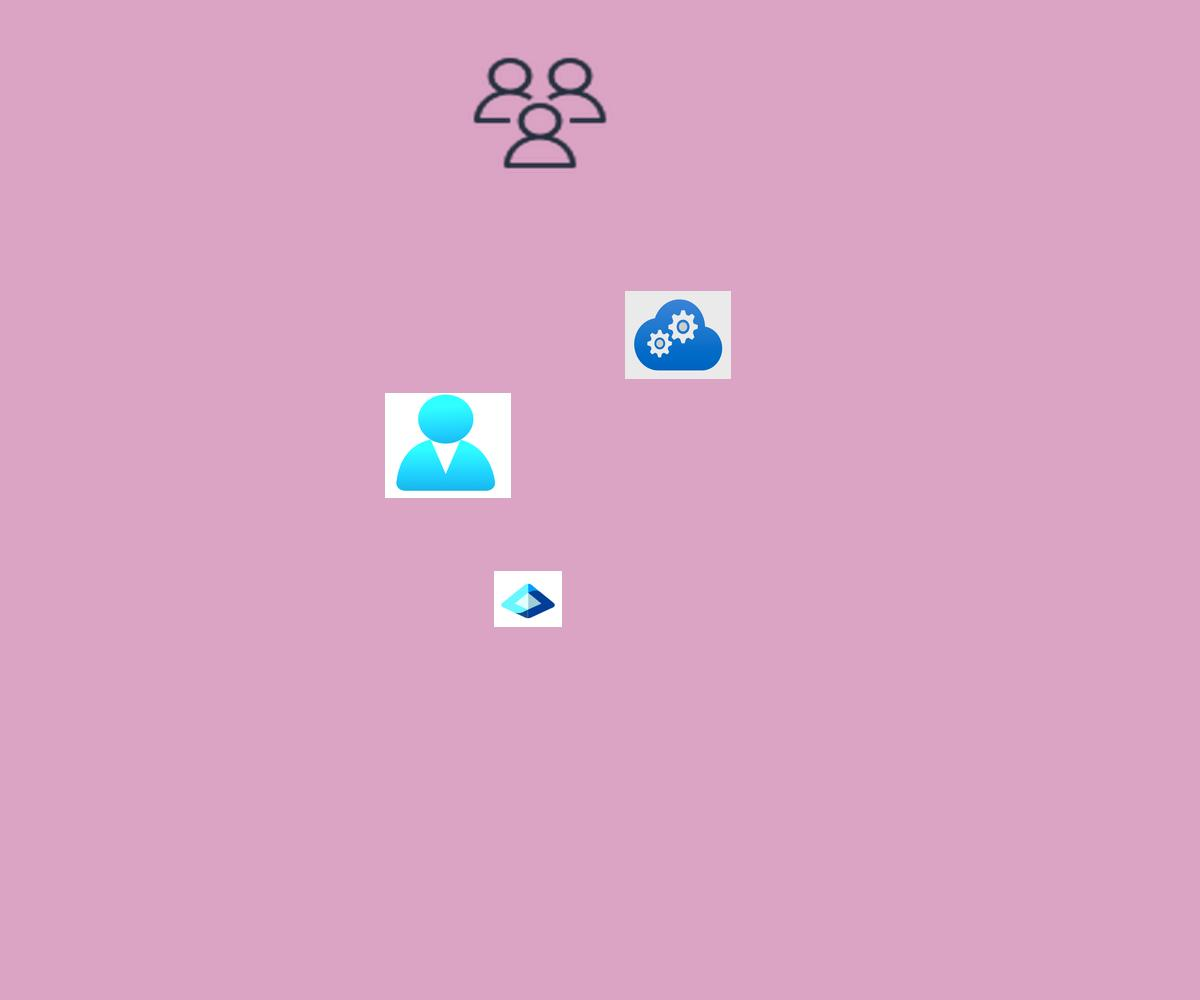AWS-Res_Users: (468, 53, 612, 173)
Azure_cloud_services: (625, 291, 731, 379)
Azure_microsoft_entra: (494, 571, 562, 627)
Azure_users: (385, 393, 511, 498)
